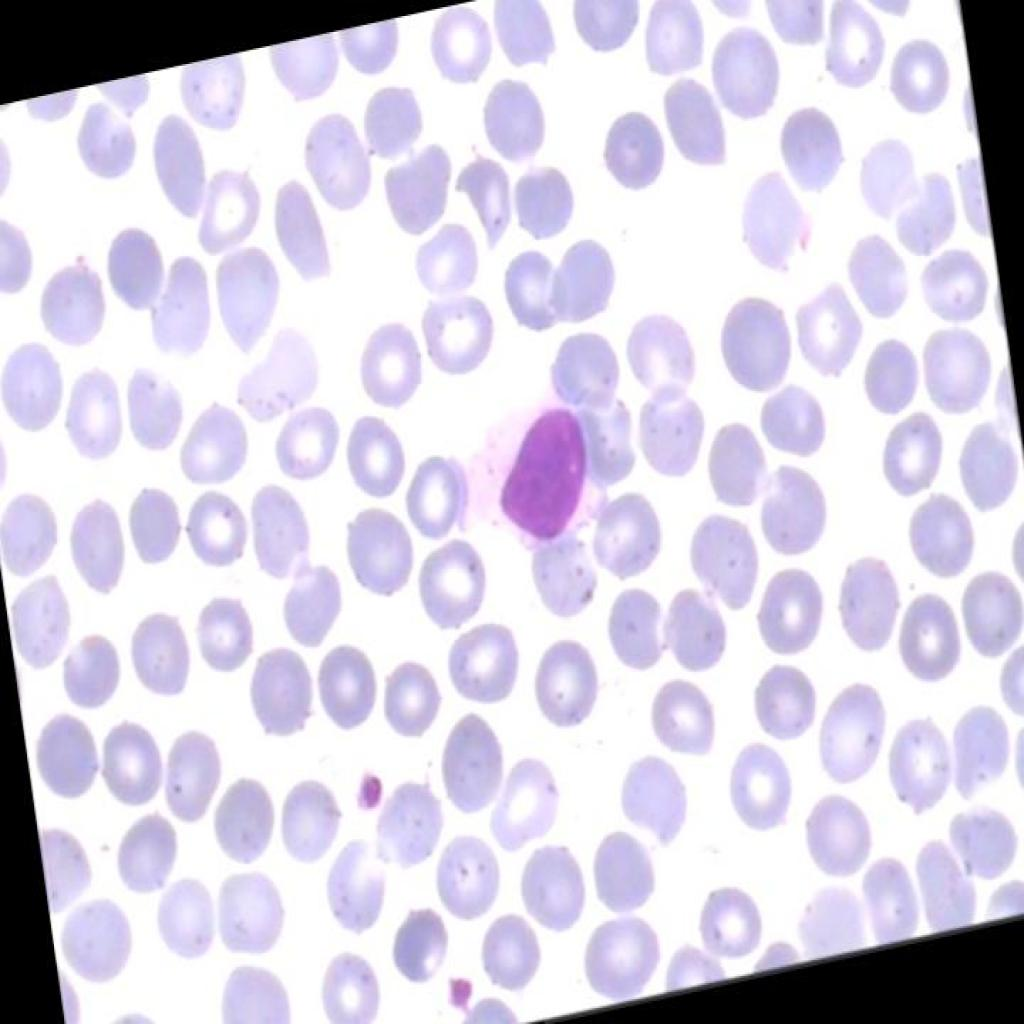Monosit: (454, 379, 612, 565)
Platelet: (338, 757, 384, 818), (436, 964, 478, 1022)
